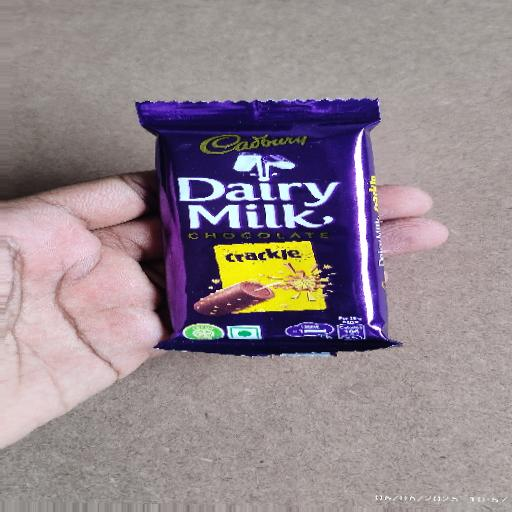Cadbury Dairy Milk Crackle: (91, 73, 439, 383)
